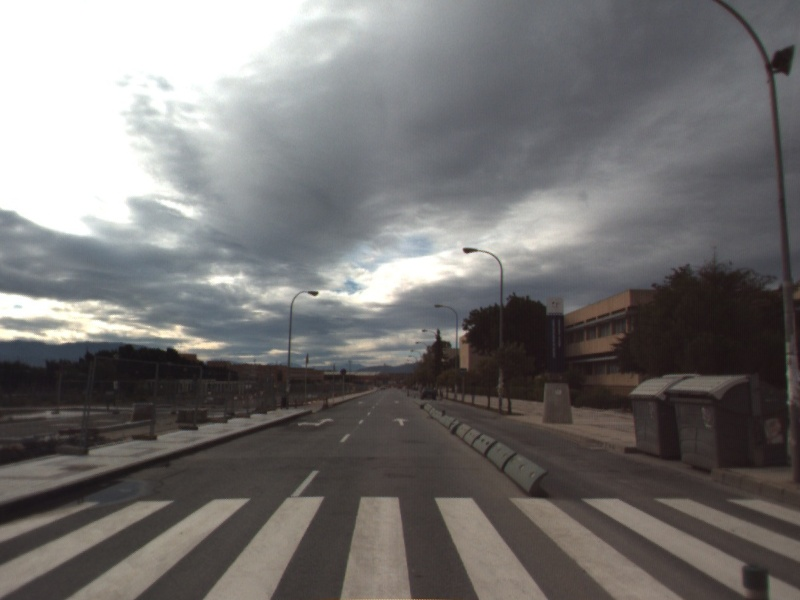STRAIGHT: (390, 415, 411, 428)
STRAIGHT_LEFT: (295, 416, 337, 429)
